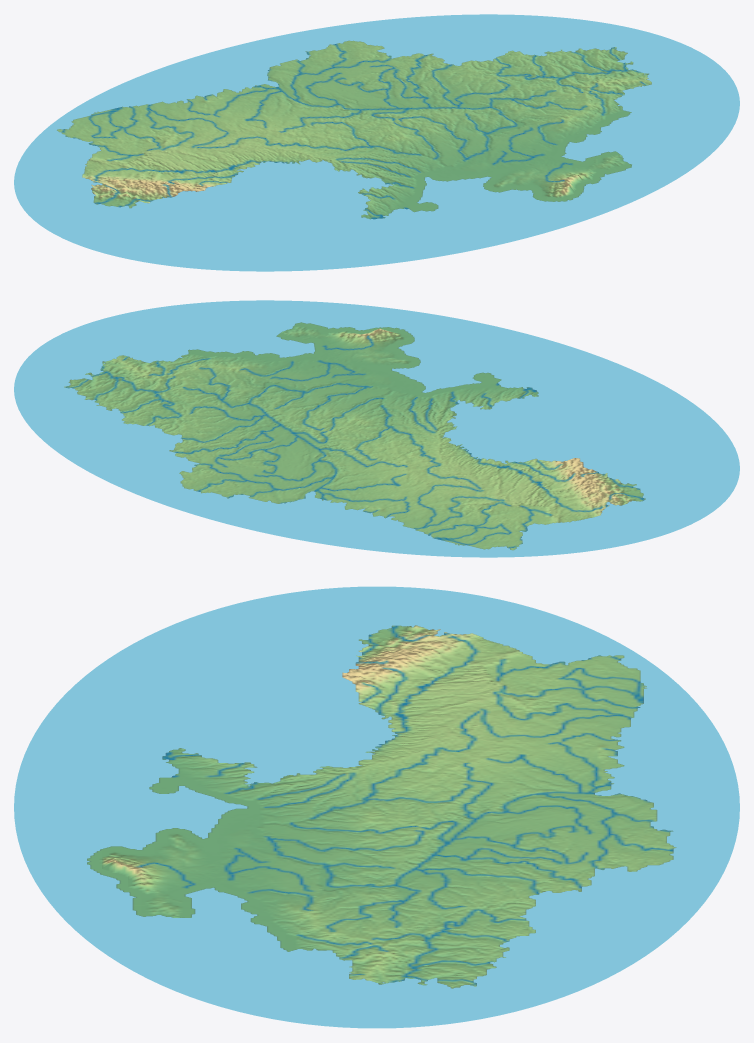
Rendered from UKR-terrain.glb.
The picture shows the model from 3 angles, top to bottom: view 1: azimuth 30°, elevation 25°; view 2: azimuth 150°, elevation 25°; view 3: azimuth 270°, elevation 25°; orthographic projection. The views are drawn at different scales.
Visible parts, largest first — view 1: Relevo com hidrografia; view 2: Relevo com hidrografia; view 3: Relevo com hidrografia.
Boxes of the visible parts, bbox=[...] form: Relevo com hidrografia: bbox=[14, 14, 739, 271]; Relevo com hidrografia: bbox=[14, 300, 739, 557]; Relevo com hidrografia: bbox=[14, 586, 739, 1028].
Size of the model in its own units: 1.96 by 0.0219 by 1.36.
2 materials, 1 textured.
